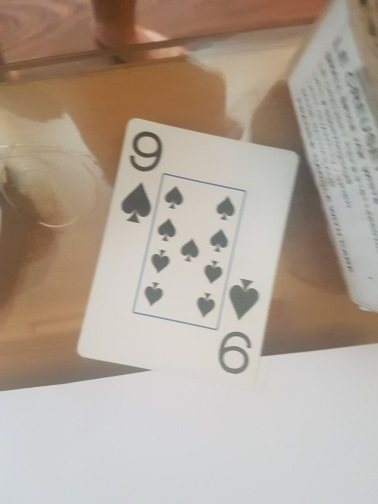nine: (76, 118, 298, 381)
